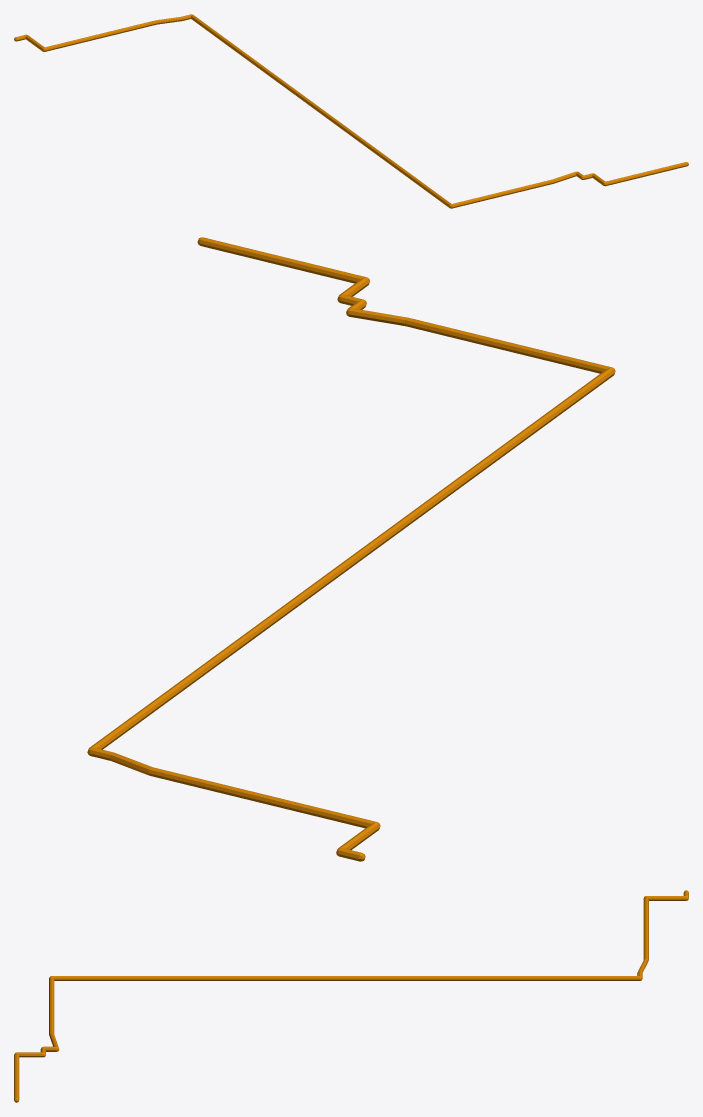
3 renders of one model, top to bottom at view 1: azimuth 30°, elevation 25°; view 2: azimuth 150°, elevation 25°; view 3: azimuth 270°, elevation 25°, orthographic. The views are drawn at different scales.
Bounding box in the file's own units: 1855 × 20 × 2524.
